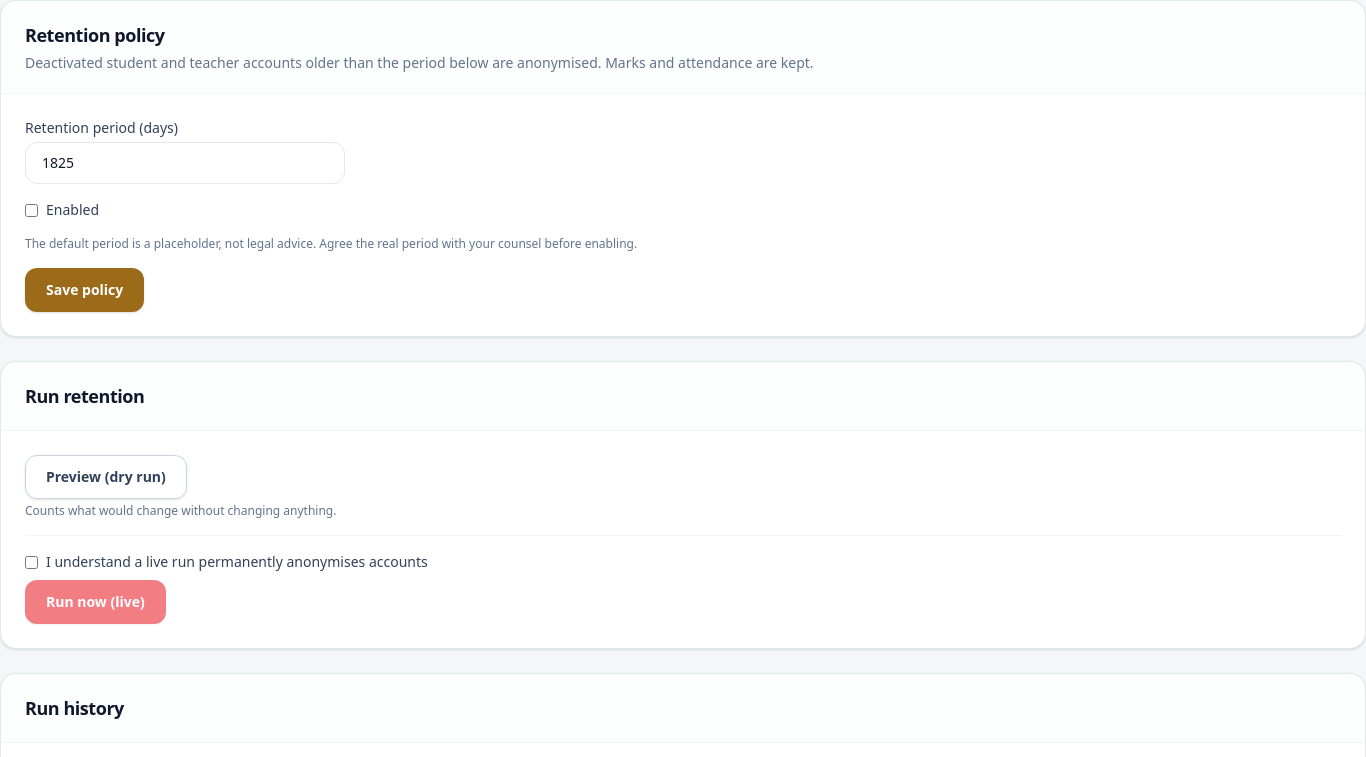
Scenario: PrivacyRetentionTab › keeps the live run locked until the admin confirms
Check: the button "Run now (live)" is disabled, box [25,580,166,624]
What coordinates should you click on to do the following:
click the checkbox labelled "I understand a live run permanently anonymises accounts"
I would click on:
 (32, 562)
Its box is [25,556,38,568].
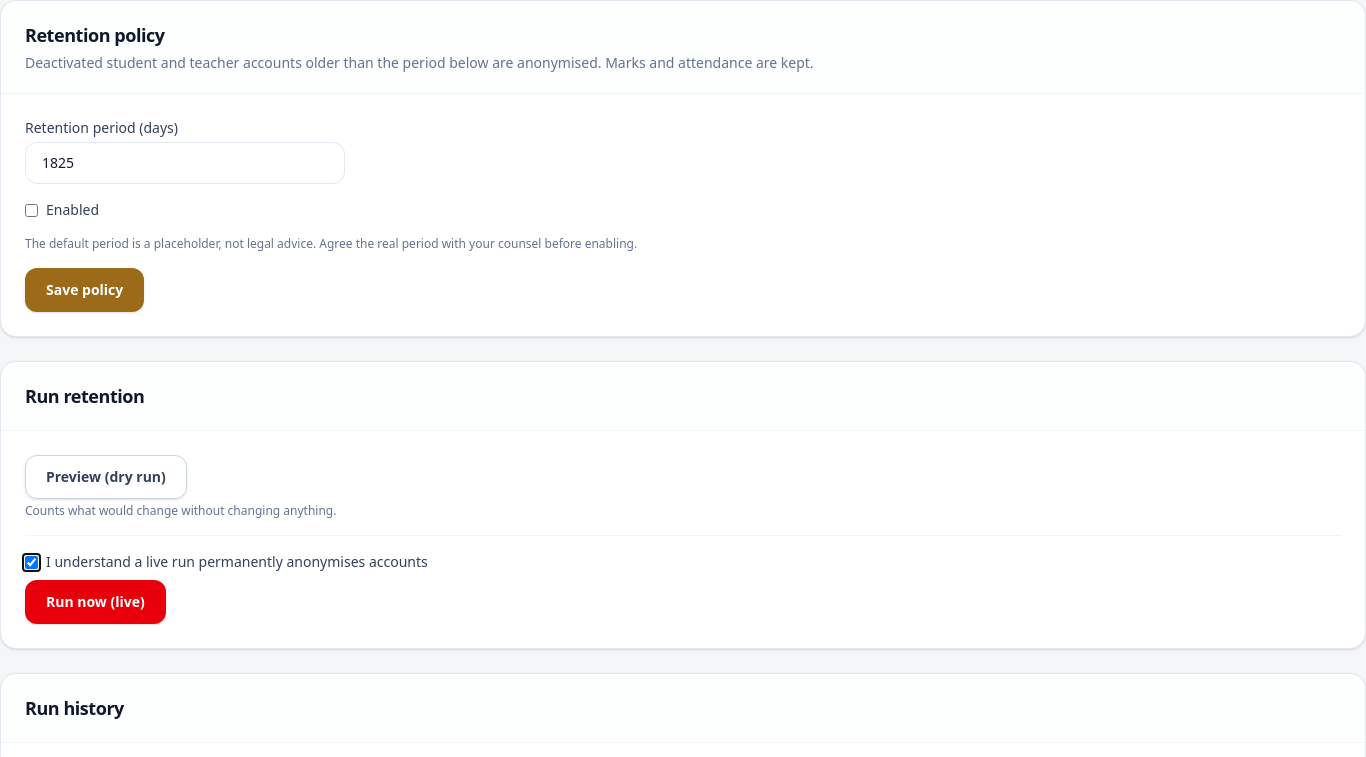
Check: the button "Run now (live)" is enabled
What coordinates should you click on to do the following:
click the button "Run now (live)"
I would click on:
 (95, 602)
Its box is [25,580,166,624].
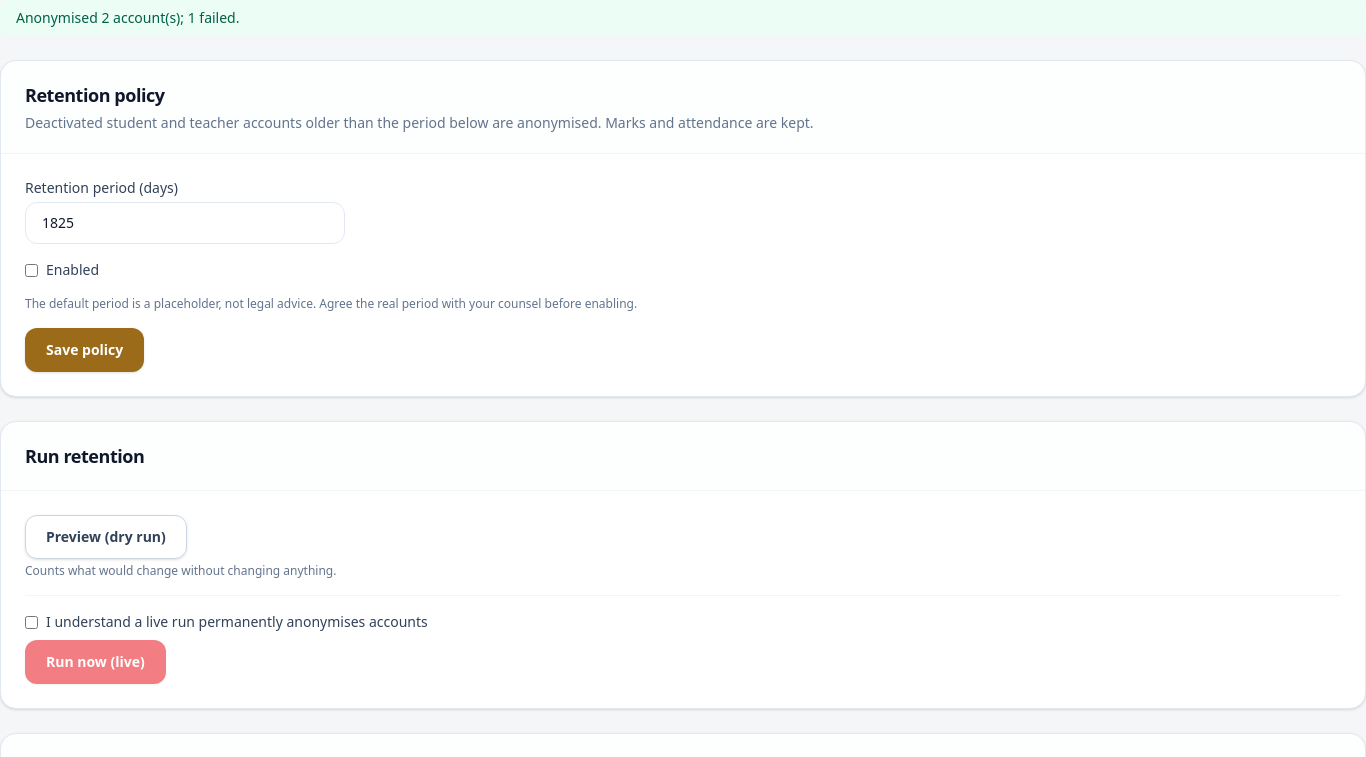
Check: the text "Anonymised 2 account(s); 1 failed." is shown, box [0,0,1365,36]
